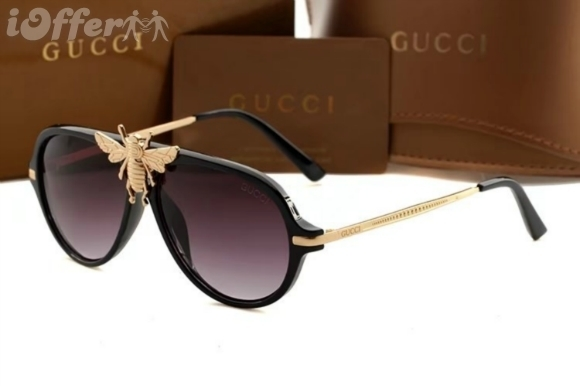sunglasses: (23, 97, 547, 313)
